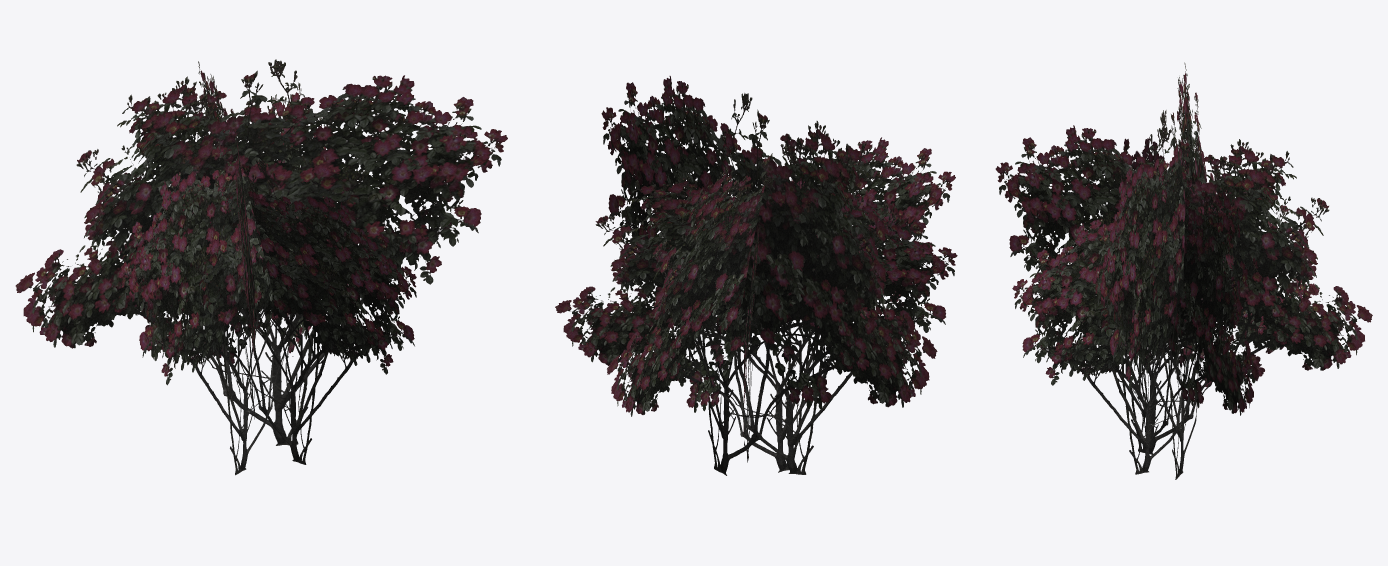
The model's file is fern_2.obj.
3 renders of one model, left to right at view 1: azimuth 30°, elevation 25°; view 2: azimuth 150°, elevation 25°; view 3: azimuth 270°, elevation 25°, orthographic. The views are drawn at different scales.
Visible parts, largest first — view 1: fern_2; view 2: fern_2; view 3: fern_2.
Boxes of the visible parts, left/top/right/bottom form: fern_2: left=15, top=59, right=507, bottom=475; fern_2: left=555, top=76, right=957, bottom=475; fern_2: left=995, top=62, right=1372, bottom=479.
Size of the model in its own units: 1.34 by 1.22 by 1.15.
